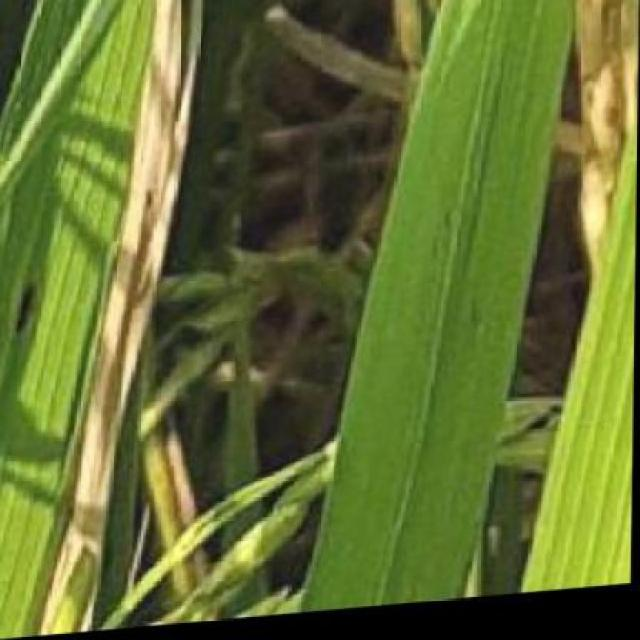Brown_Spot: (95, 0, 200, 445)
